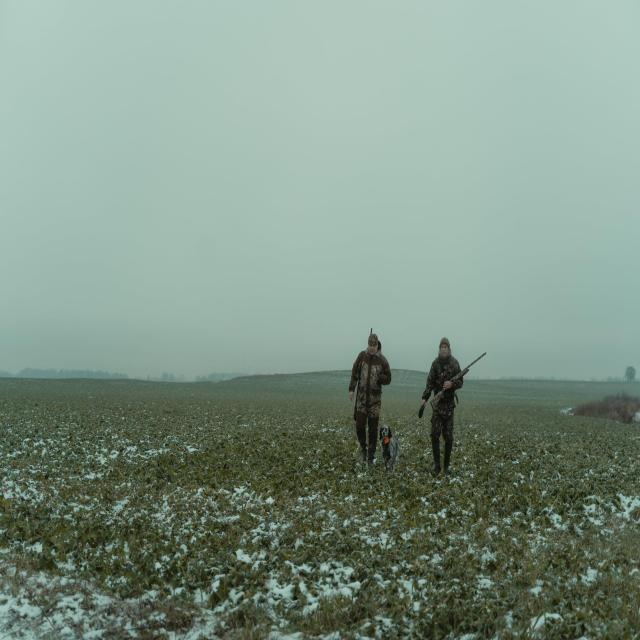weapon: (429, 352, 486, 412)
